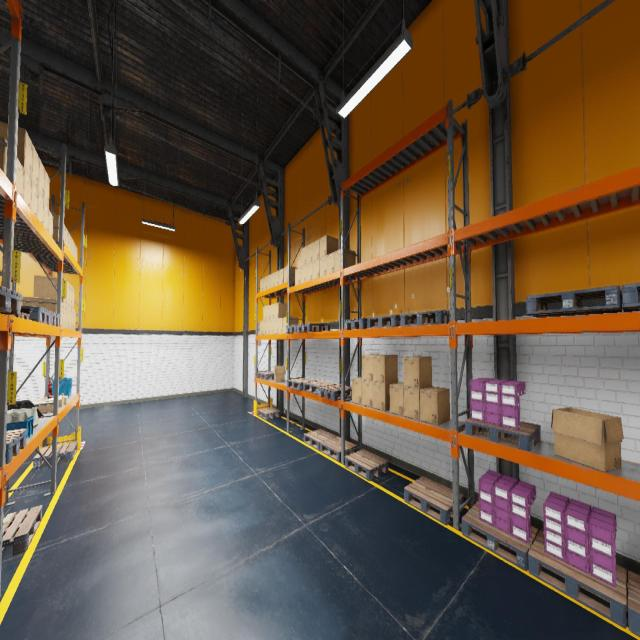box: (550, 407, 624, 472), (0, 120, 33, 180), (420, 386, 450, 425), (33, 275, 67, 305), (404, 356, 432, 389), (373, 381, 398, 411), (372, 355, 398, 383), (362, 354, 385, 381), (22, 296, 57, 312), (404, 386, 420, 421), (335, 248, 355, 272), (390, 382, 404, 416), (320, 235, 338, 258), (32, 144, 39, 192), (16, 158, 24, 198), (24, 169, 32, 208), (362, 380, 373, 408), (38, 158, 45, 201), (352, 377, 362, 405), (0, 136, 7, 175), (283, 316, 298, 333), (46, 393, 64, 407), (31, 182, 38, 217), (44, 170, 50, 209), (37, 193, 44, 225), (51, 212, 59, 240), (283, 266, 297, 282), (273, 365, 285, 382), (274, 303, 287, 318), (43, 202, 49, 232), (327, 251, 334, 274), (319, 255, 326, 277), (37, 404, 53, 413), (48, 210, 53, 238), (313, 239, 319, 261), (306, 242, 312, 264), (33, 401, 53, 407), (313, 258, 319, 278), (306, 261, 312, 281), (300, 264, 306, 284), (301, 246, 306, 266), (66, 282, 70, 306), (295, 267, 300, 285), (278, 317, 283, 334), (63, 303, 66, 328), (69, 284, 72, 308), (66, 305, 69, 328), (71, 308, 74, 330), (274, 318, 278, 334), (270, 318, 274, 334), (266, 304, 270, 320), (279, 268, 283, 284), (274, 270, 278, 286), (73, 309, 76, 330), (68, 232, 71, 252), (270, 304, 274, 319), (266, 320, 270, 334), (263, 276, 267, 290), (259, 321, 263, 334), (47, 395, 64, 398), (75, 245, 78, 262), (61, 302, 63, 327), (271, 272, 274, 288), (72, 286, 74, 309), (69, 307, 71, 329), (66, 227, 68, 248), (263, 306, 266, 320), (267, 274, 270, 288), (263, 321, 266, 334), (260, 278, 263, 291), (71, 237, 73, 255), (64, 396, 68, 404), (74, 242, 76, 258), (64, 224, 65, 244)
pallets: (528, 530, 627, 628), (462, 501, 538, 571), (526, 285, 622, 317), (404, 476, 464, 525), (465, 418, 540, 451), (2, 505, 42, 555), (345, 449, 388, 481), (33, 441, 77, 468), (320, 436, 357, 462), (400, 310, 450, 326), (5, 428, 27, 464), (628, 571, 640, 637), (12, 306, 50, 324), (304, 429, 336, 450), (0, 286, 22, 315), (21, 311, 59, 326), (621, 282, 640, 312), (318, 384, 352, 400), (303, 380, 336, 394), (367, 314, 400, 328), (287, 378, 317, 391), (344, 318, 374, 330), (258, 407, 281, 420), (297, 323, 330, 332), (257, 371, 274, 380), (286, 325, 298, 332)
